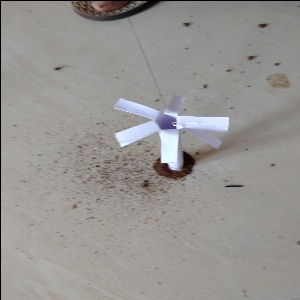weed: (110, 87, 230, 176)
